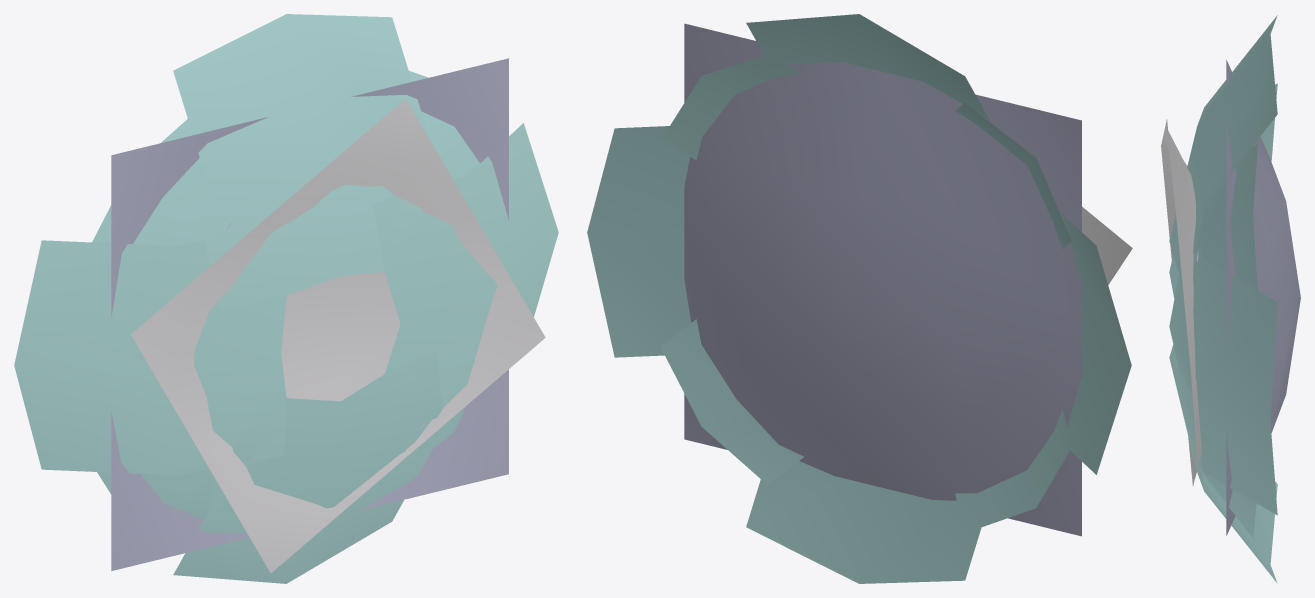
3 views of the same model, side by side, from view 1: azimuth 30°, elevation 25°; view 2: azimuth 150°, elevation 25°; view 3: azimuth 270°, elevation 25° (orthographic). The views are drawn at different scales.
Visible parts, largest first — view 1: Object109; view 2: Object109; view 3: Object109.
Part boxes in pixels (box(x1,y1,x2,y2)): Object109: box(14, 14, 558, 583); Object109: box(587, 14, 1132, 583); Object109: box(1161, 15, 1300, 583).
Bounding box in the file's own units: 5813 × 5813 × 1390.
